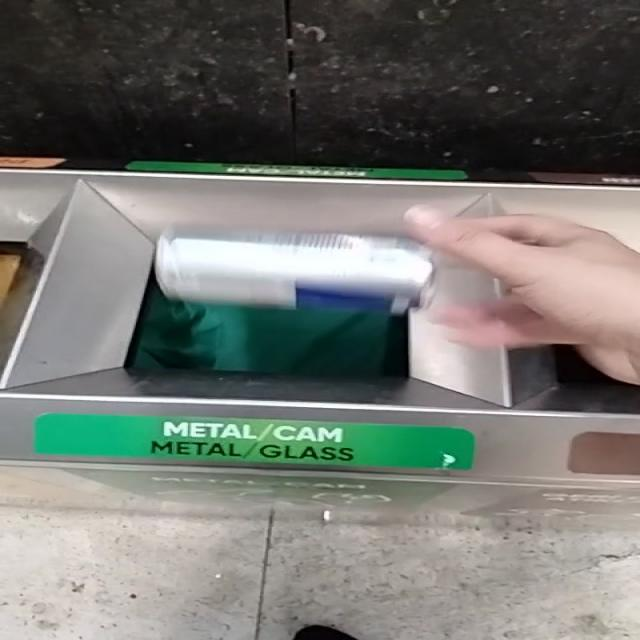metal: (156, 230, 433, 310)
